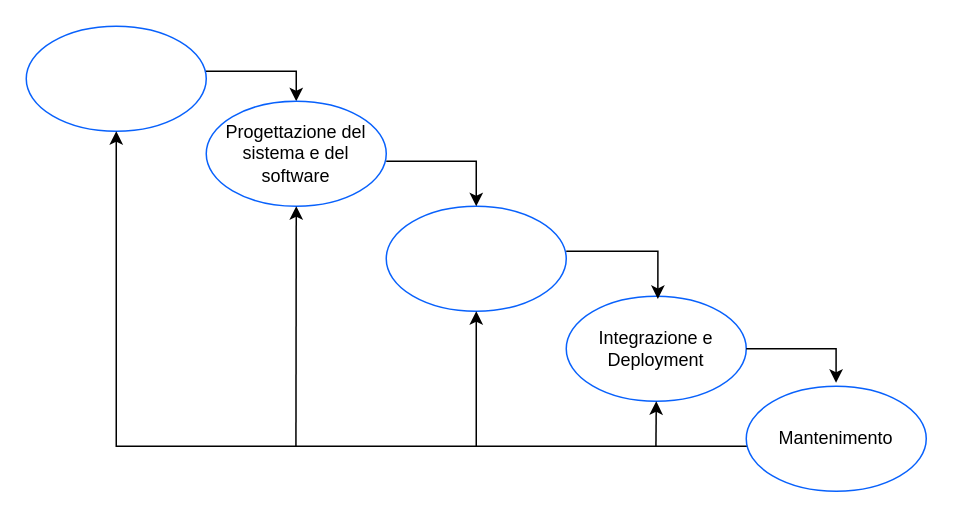
This 953x518 diagram has some shape labels left out. The shapes that lost their labels are listed below. From the top down, each one's box as (x1, y1, x2, y2) in pixels, then its label:
(25, 25, 206, 131): Analisi e definizione dei requisiti
(385, 205, 566, 311): Implementazione e collaudo
